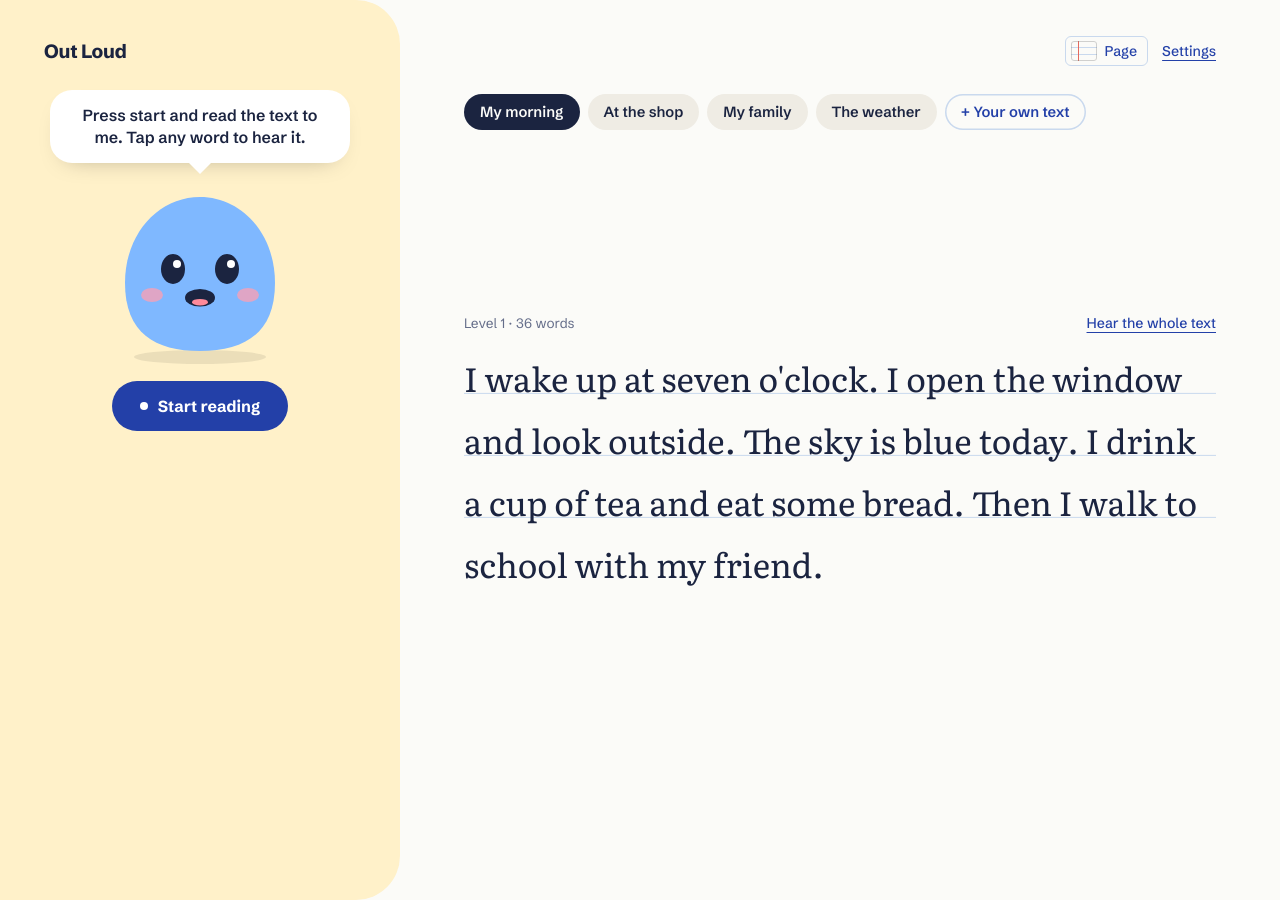
Test: reading a text › remembers the score and shows how the next reading compares
Click the button "Start reading" at coordinates (200, 406), box [112,381,288,431]
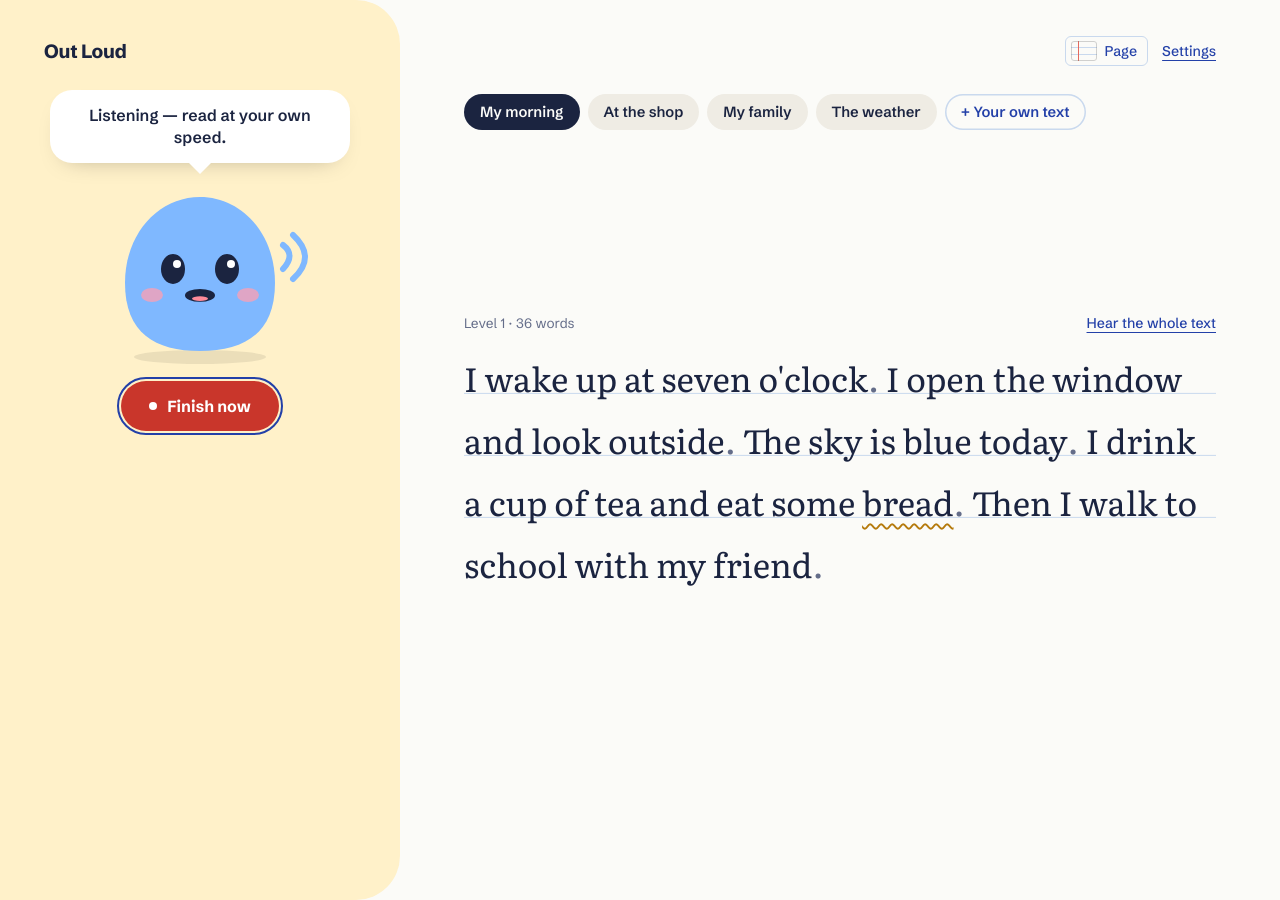
Click the button "Finish now" at coordinates (200, 406), box [121,381,279,431]
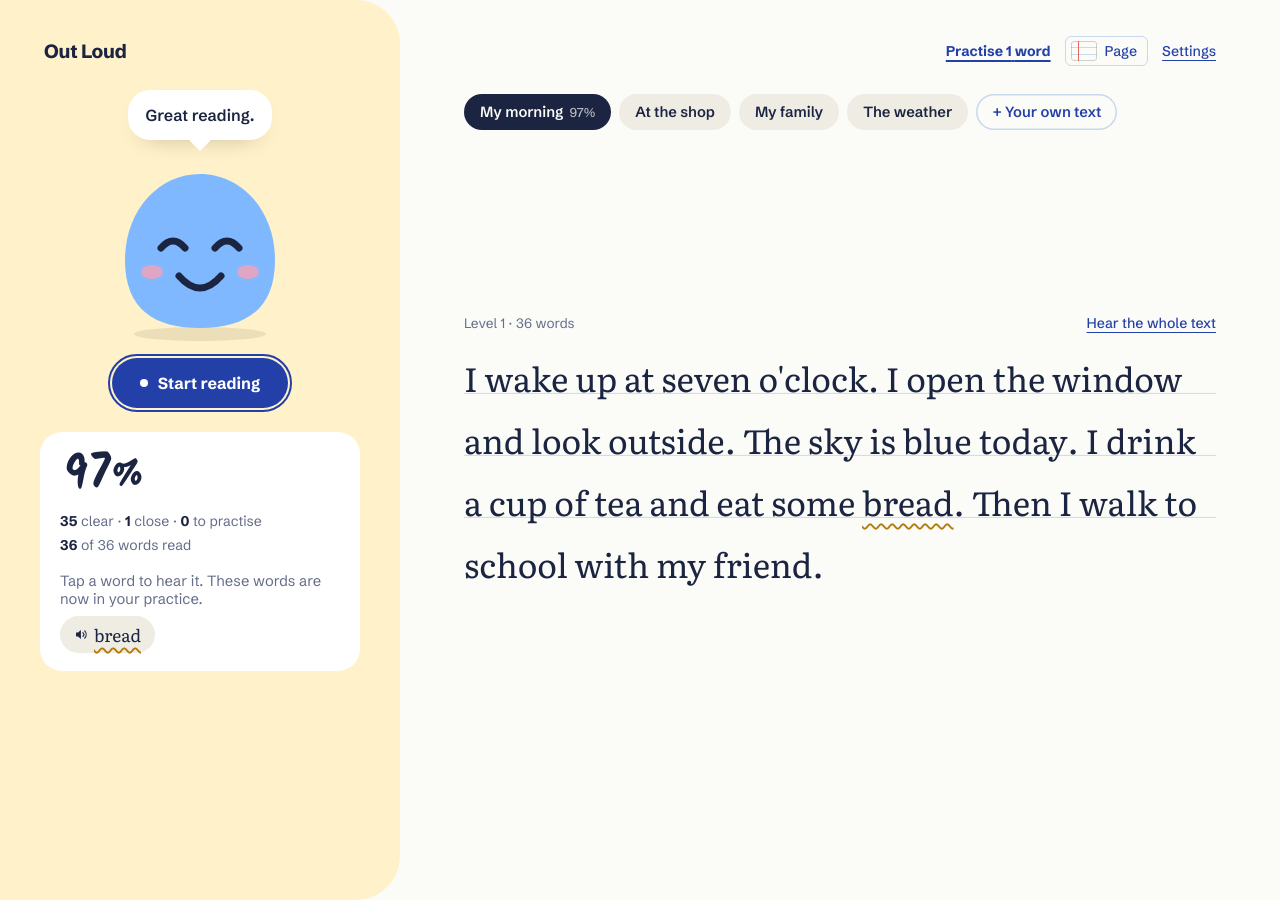
Expected: the button with aria-label "My morning, best 97%" is shown, [464,94,611,130]
Click the button "Start reading" at coordinates (200, 383), box [112,358,288,408]
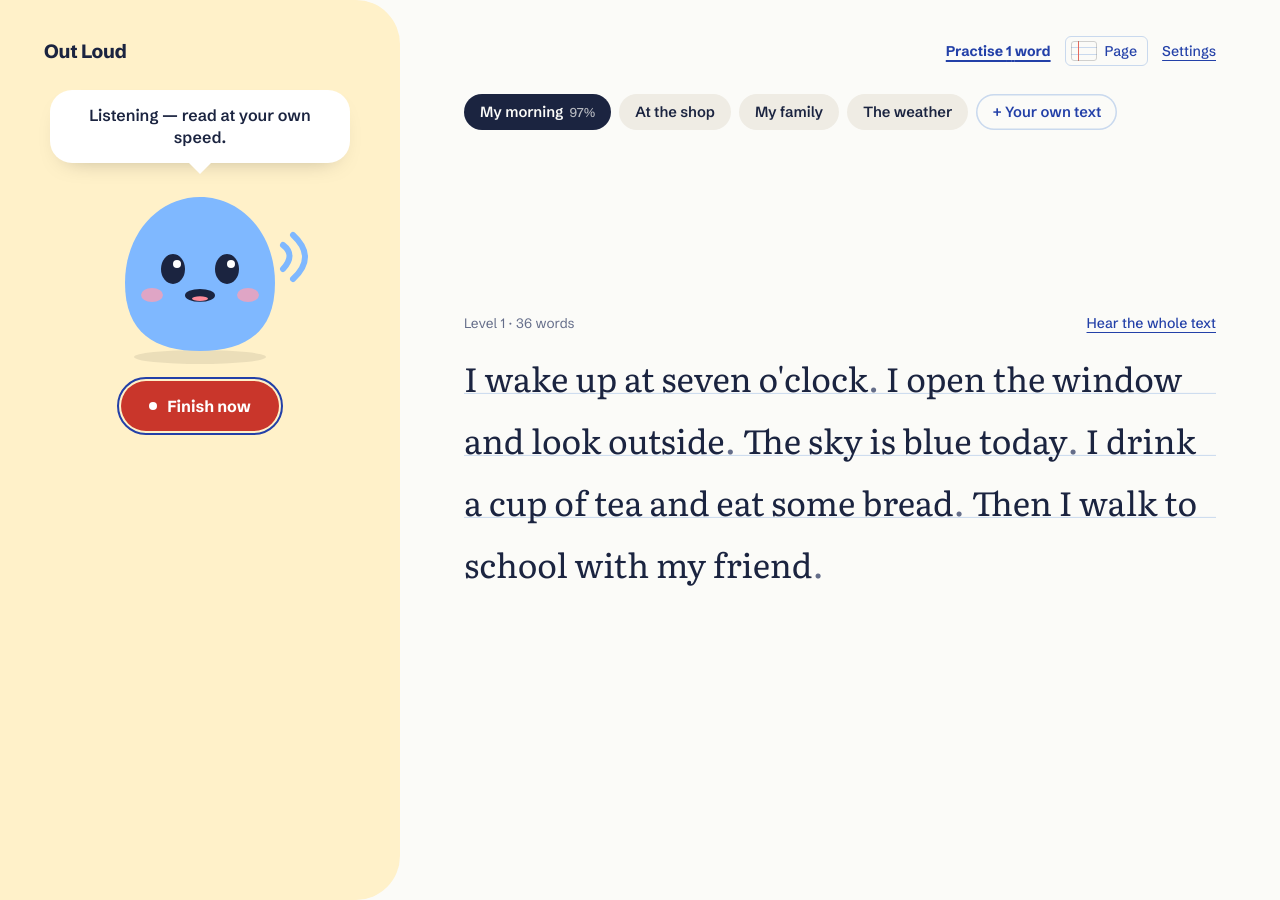
Click the button "Finish now" at coordinates (200, 406), box [121,381,279,431]
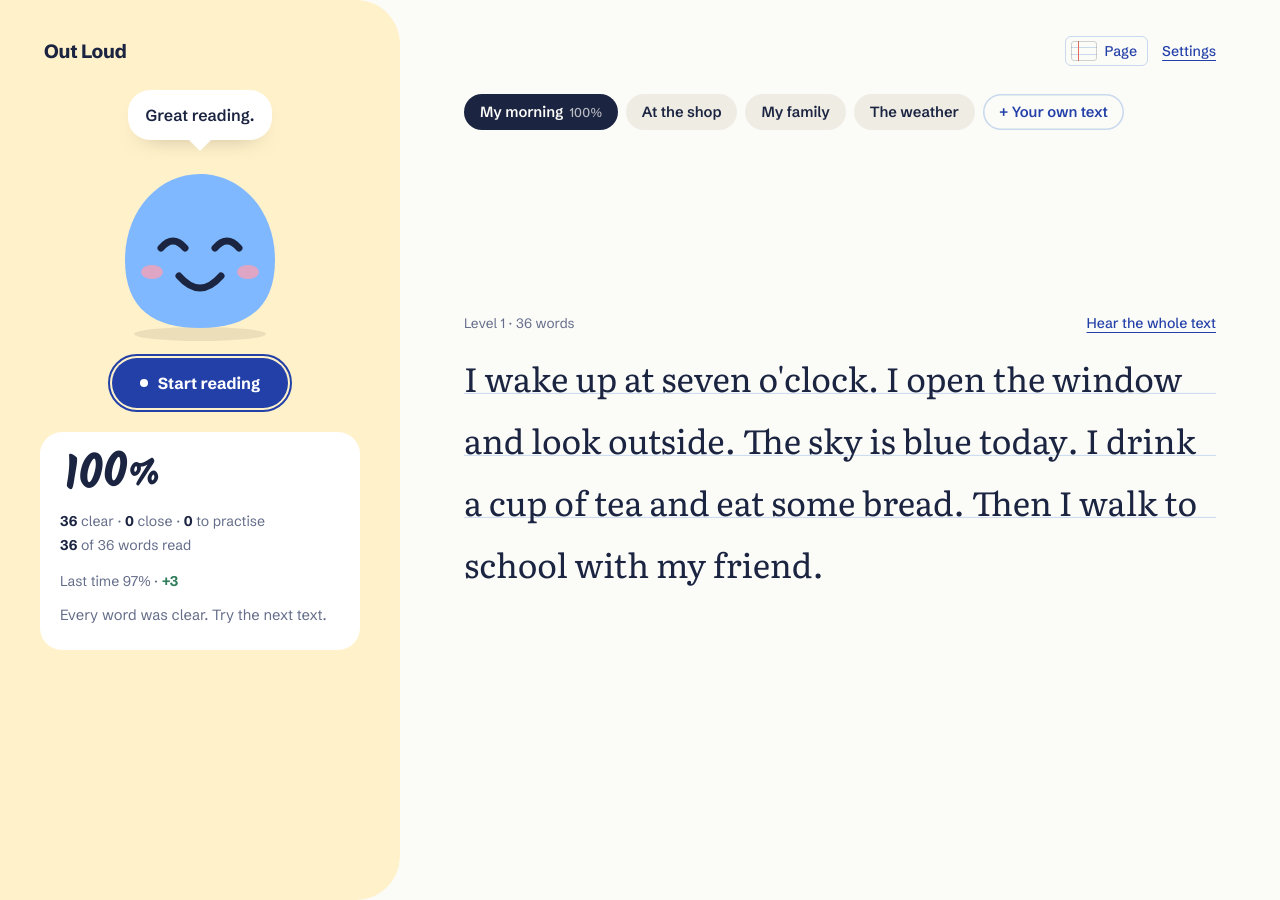
Expected: the text "Last time 97% · +3" is shown, [60,572,178,590]
Expected: the button with aria-label "My morning, best 100%" is shown, [464,94,618,130]
